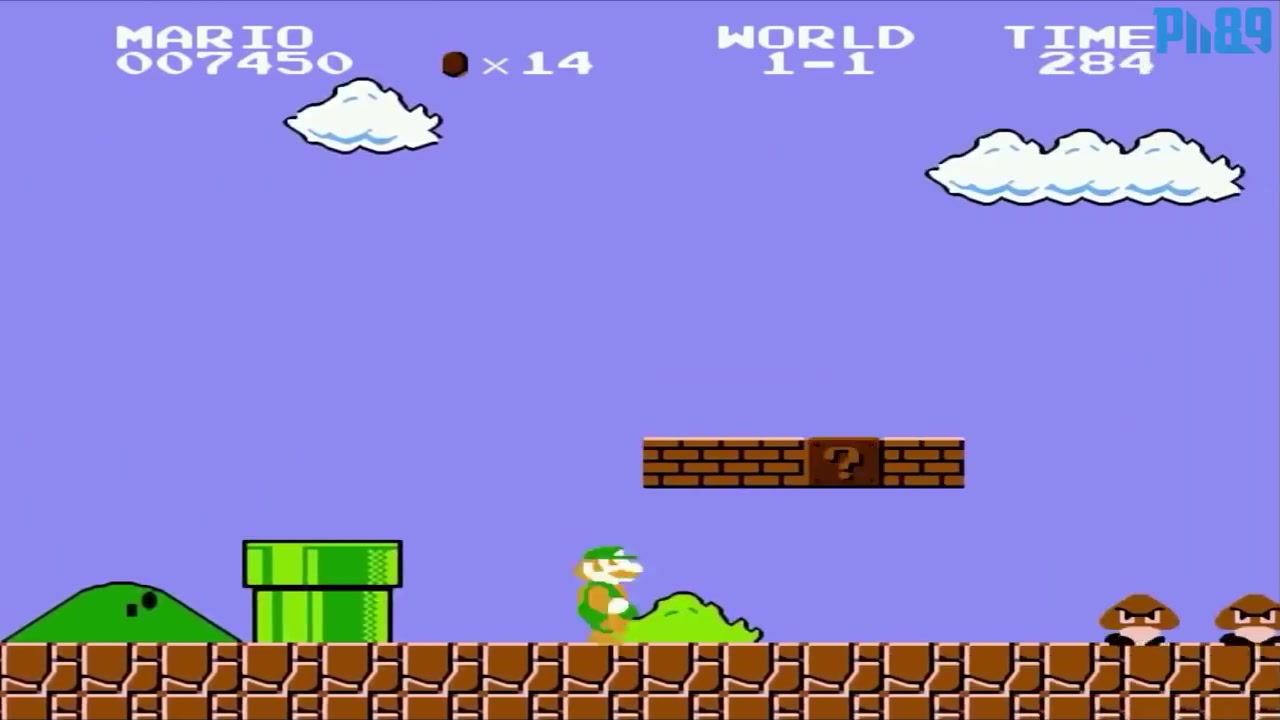mario: (568, 541, 652, 640)
